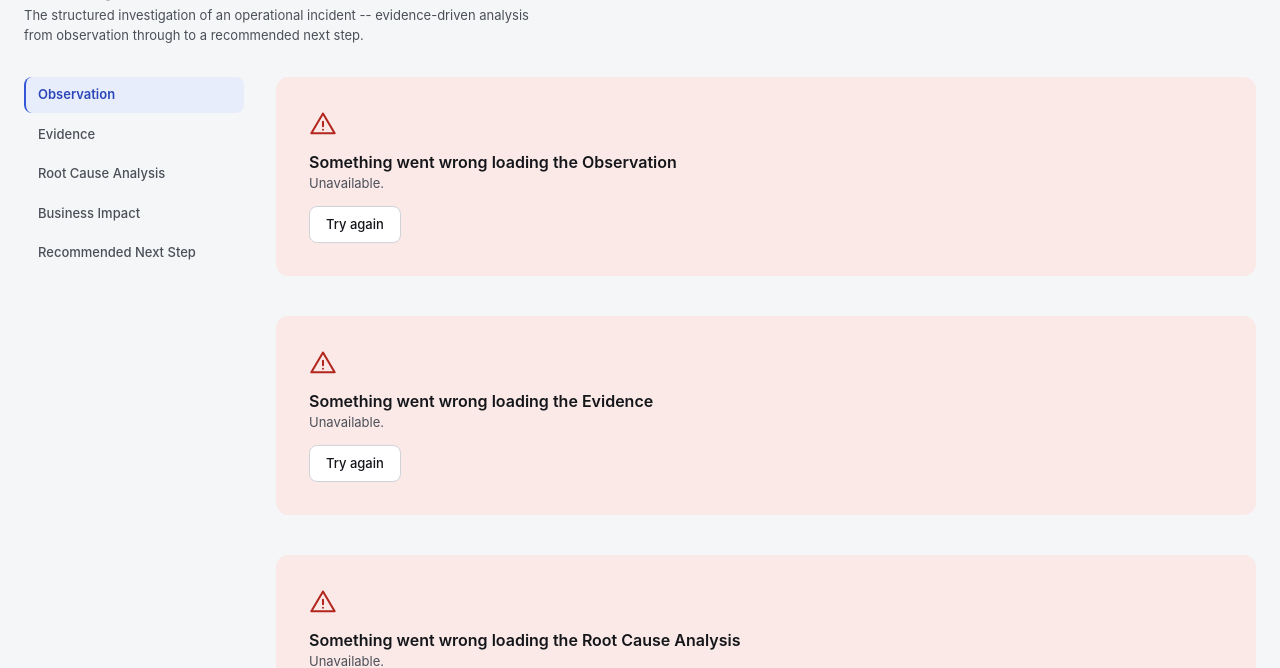
Test: Investigation real routing + Gateway integration › Part 7: retry issues a genuine new GET /api/v1/investigations/:incidentId request, and ALL sibling sections recover together, not just the one whose retry was c
This screenshot has width=1280, height=668.
Expected: the text "Something went wrong loading the Observation" is shown, [309, 150, 677, 174]
Click the button "Try again" below "the Observation" at (355, 224), box [309, 206, 401, 243]
(page scrolled)
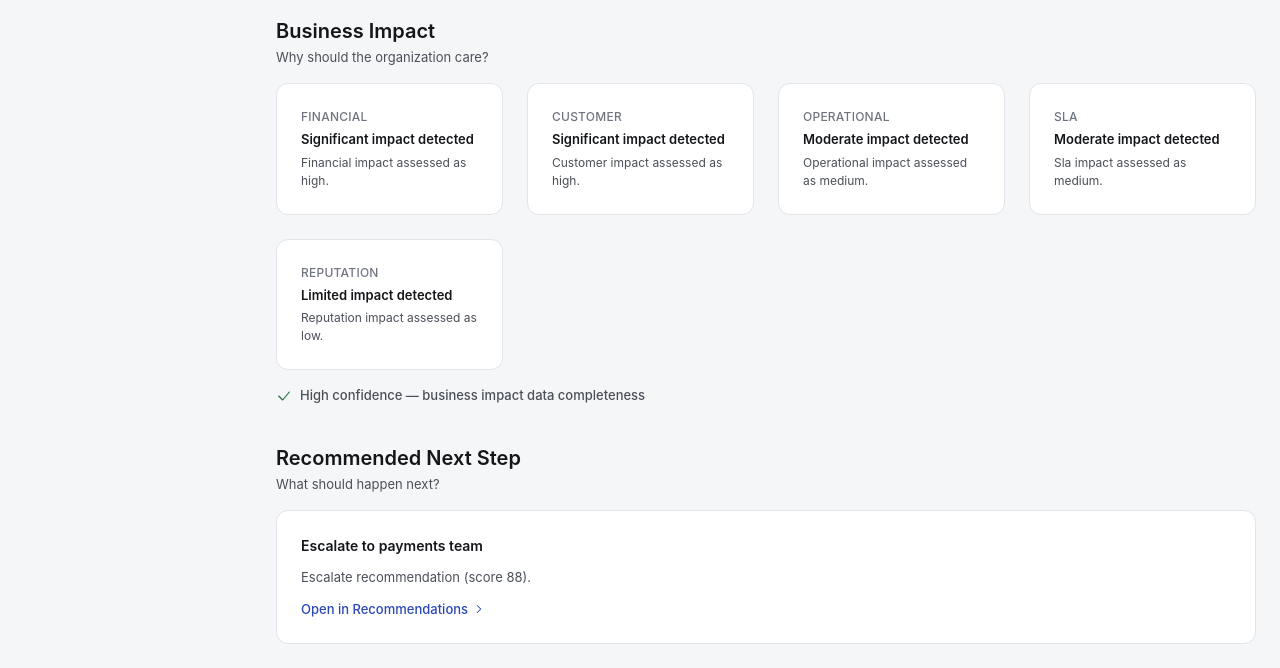
Expected: the text "Escalate to payments team" is shown, [301, 537, 483, 554]
Expected: the text "Something went wrong loading" is gone
